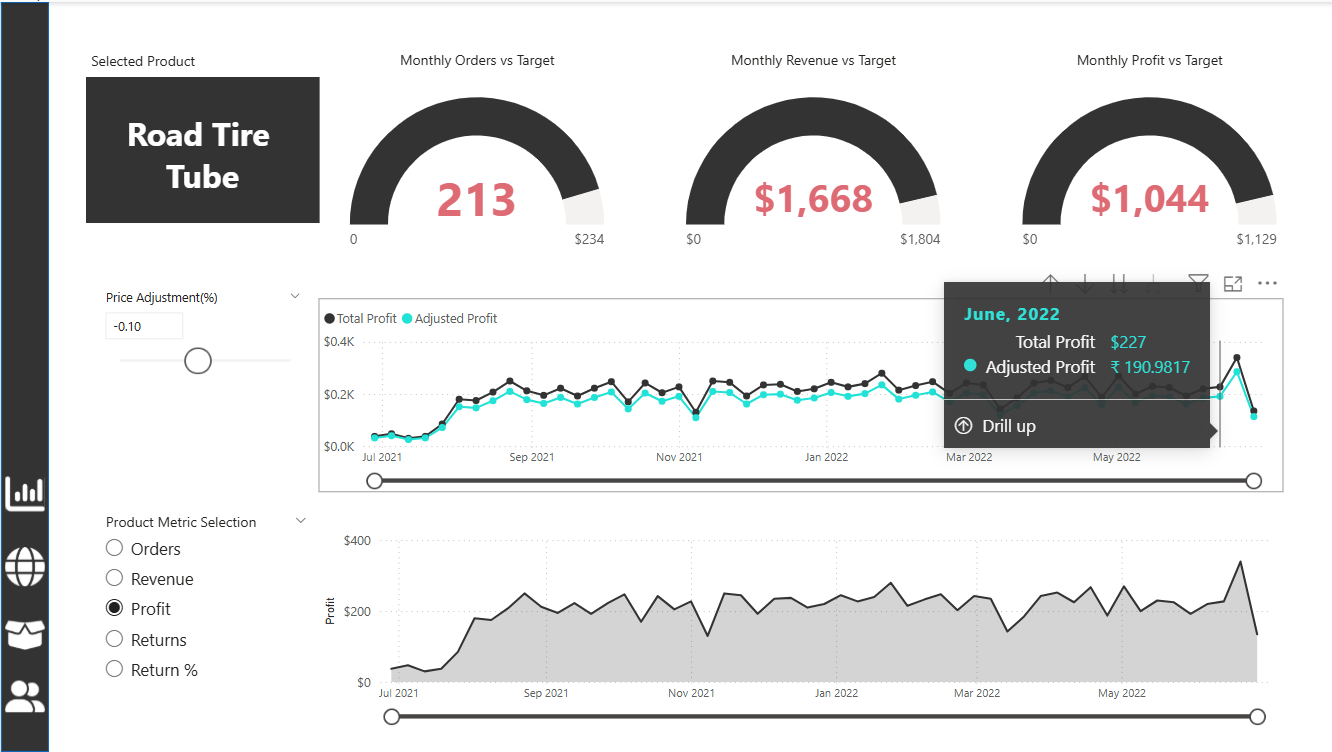

The dashboard page shown, as its layout file describes it:
{"tool":"powerbi","page":{"name":"Product Details","canvas":[1280,720],"ordinal":2},"visuals":[{"type":"shape","box":[0,0,46,720],"z":0},{"type":"gauge","title":"Monthly Orders vs Target","fields":{"Y":["Measure Table.Total Orders"],"MaxValue":["Measure Table.Order Target"]},"box":[330,46,254,224],"z":1000},{"type":"actionButton","box":[0.3,502.7,46,76],"z":1000,"group":"g1"},{"type":"gauge","title":"Monthly Revenue vs Target","fields":{"Y":["Measure Table.Total Revenue"],"MaxValue":["Measure Table.Revenue Target"]},"box":[652,46,254,224],"z":2000},{"type":"actionButton","box":[0,636,46,58],"z":2000,"group":"g1"},{"type":"gauge","title":"Monthly Profit vs Target","fields":{"Y":["Measure Table.Total Profit"],"MaxValue":["Measure Table.Profit Target"]},"box":[974,46,254,224],"z":3000},{"type":"actionButton","box":[0,578,46,58],"z":3000,"group":"g1"},{"type":"actionButton","box":[0.3,430,46,82],"z":4000,"group":"g1"},{"type":"lineChart","title":"Profit Trending","fields":{"Category":["Calendar Lookup.Date Hierarchy.Start of Year","Calendar Lookup.Date Hierarchy.Start of Month","Calendar Lookup.Date Hierarchy.Start of Week","Calendar Lookup.Date Hierarchy.Date"],"Y":["Measure Table.Total Profit","Measure Table.Adjusted Profit"]},"box":[304,284,926,186],"z":4000},{"type":"areaChart","title":"Returns Trending","fields":{"Y":["Measure Table.Total Profit"],"Category":["Calendar Lookup.Date Hierarchy.Start of Year","Calendar Lookup.Date Hierarchy.Start of Month","Calendar Lookup.Date Hierarchy.Start of Week","Calendar Lookup.Date Hierarchy.Date"]},"box":[306,502,928,194],"z":5000},{"type":"card","fields":{"Values":["Min(Product Lookup.ProductName)"]},"box":[82,72,224,140],"z":6000},{"type":"textbox","box":[82,42,222,36],"z":7000},{"type":"group","id":"g1","title":"Navigation Buttons","box":[0,430,46,264],"z":8000},{"type":"slicer","fields":{"Values":["Price Adjustment(%).Price Adjustment(%)"]},"box":[88,270,212,128],"z":9000},{"type":"slicer","fields":{"Values":["Parameter.Parameter"]},"box":[88,484,218,190],"z":10000}]}

Visuals, with their boxes on the page's 1280x720 design canvas (x1, y1, x2, y2). These are canvas units, not pixel positions in the 1332x752 screenshot, which may show the page scaled, cropped or inside an application window:
shape: <bbox>0, 0, 46, 720</bbox>
"Monthly Orders vs Target" gauge: <bbox>330, 46, 584, 270</bbox>
actionButton: <bbox>0, 503, 46, 579</bbox>
"Monthly Revenue vs Target" gauge: <bbox>652, 46, 906, 270</bbox>
actionButton: <bbox>0, 636, 46, 694</bbox>
"Monthly Profit vs Target" gauge: <bbox>974, 46, 1228, 270</bbox>
actionButton: <bbox>0, 578, 46, 636</bbox>
actionButton: <bbox>0, 430, 46, 512</bbox>
"Profit Trending" lineChart: <bbox>304, 284, 1230, 470</bbox>
"Returns Trending" areaChart: <bbox>306, 502, 1234, 696</bbox>
card - Min(Product Lookup.ProductName): <bbox>82, 72, 306, 212</bbox>
textbox: <bbox>82, 42, 304, 78</bbox>
"Navigation Buttons" group: <bbox>0, 430, 46, 694</bbox>
slicer - Price Adjustment(%).Price Adjustment(%): <bbox>88, 270, 300, 398</bbox>
slicer - Parameter.Parameter: <bbox>88, 484, 306, 674</bbox>
